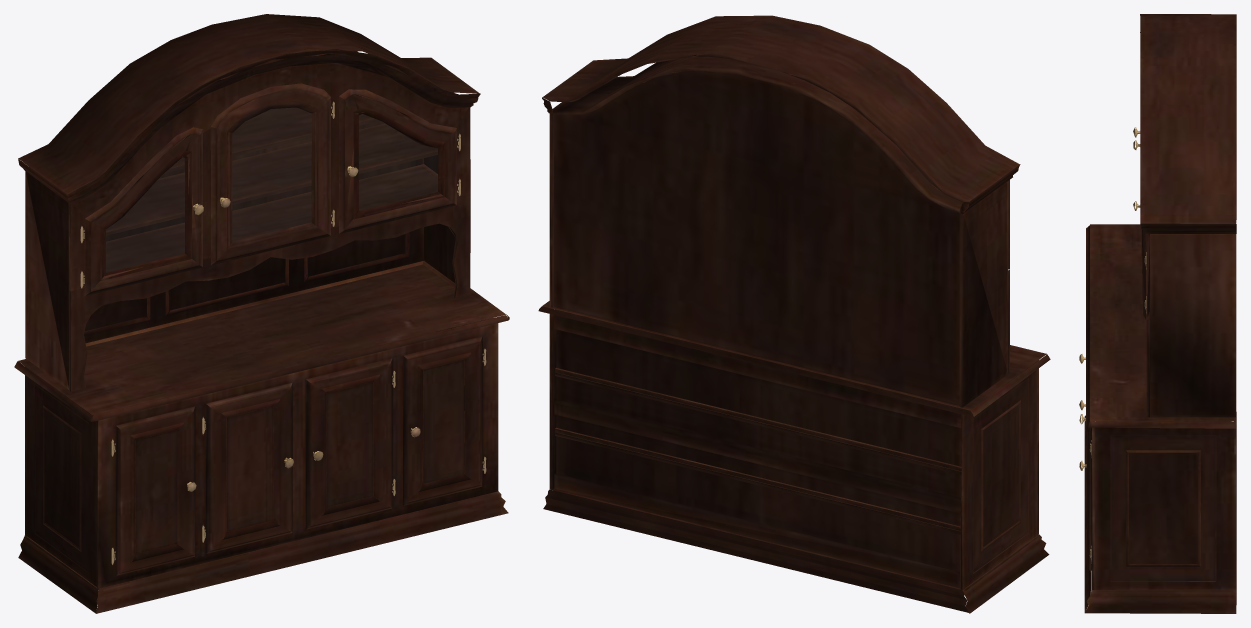
The model's file is record_cabinet.glb.
The picture shows the model from 3 angles, left to right: view 1: azimuth 30°, elevation 25°; view 2: azimuth 150°, elevation 25°; view 3: azimuth 270°, elevation 25°; orthographic projection. The views are drawn at different scales.
Visible parts, largest first — view 1: record_cabinet; view 2: record_cabinet; view 3: record_cabinet.
Part boxes in pixels (left/top/right/bottom): record_cabinet: left=14, top=14, right=509, bottom=613; record_cabinet: left=538, top=15, right=1050, bottom=613; record_cabinet: left=1079, top=14, right=1236, bottom=613.
Bounding box in the file's own units: 2.02 × 2.23 × 0.6711.
Materials: 3 (2 with a texture image).
